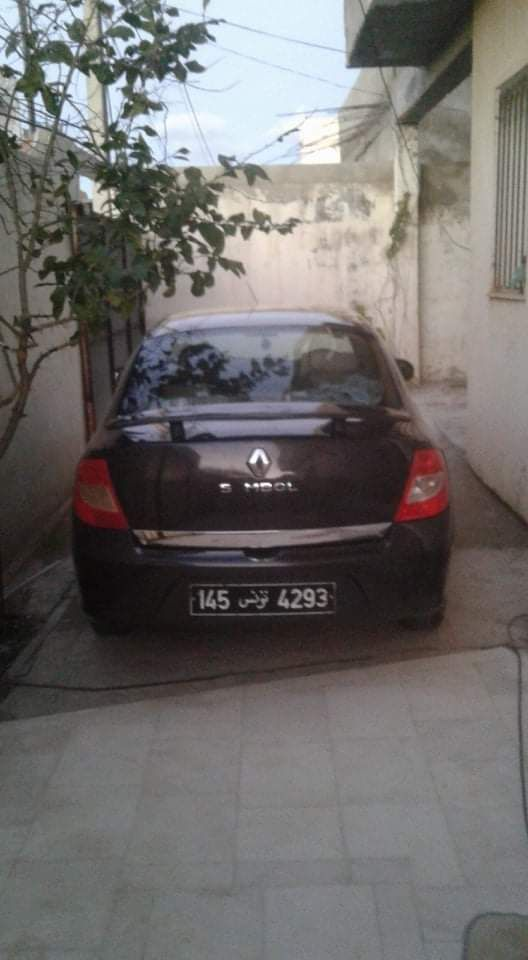LP: (184, 577, 346, 616)
